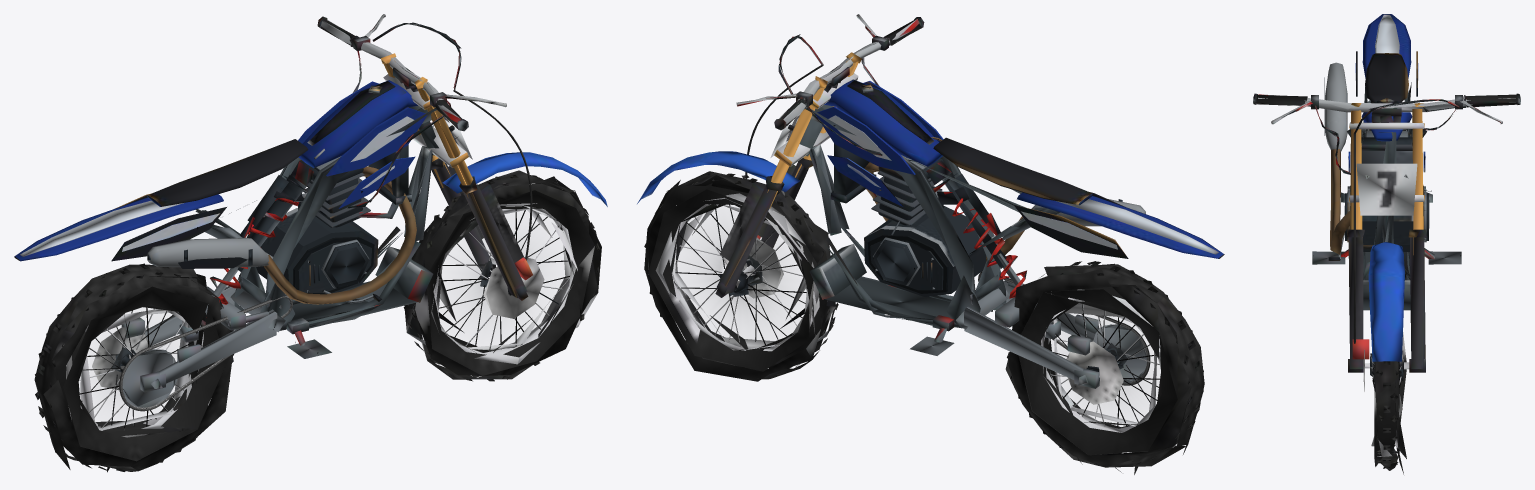
File: bike-rookie-lod.glb
3 renders of one model, left to right at view 1: azimuth 30°, elevation 25°; view 2: azimuth 150°, elevation 25°; view 3: azimuth 270°, elevation 25°, orthographic. The views are drawn at different scales.
Visible parts, largest first — view 1: wheel_rear, wheel_front, bodywork, frame, engine, fork_lower, exhaust, swingarm, handlebar, fork_upper, shock_body, sprocket_rear (+6 smaller); view 2: wheel_rear, wheel_front, bodywork, frame, engine, fork_lower, swingarm, handlebar, wheel_front_blur, fork_upper, wheel_front_spokes, shock_body (+6 smaller); view 3: fork_lower, fork_upper, bodywork, handlebar, wheel_front, frame, exhaust, engine, pegs, brake_hose.
Boxes of the visible parts, x1,y1,x2,y2 form: wheel_rear: [34, 263, 233, 472]; wheel_front: [403, 170, 601, 381]; bodywork: [14, 80, 427, 261]; frame: [195, 105, 438, 334]; engine: [256, 148, 381, 303]; fork_lower: [431, 152, 607, 300]; exhaust: [147, 166, 416, 304]; swingarm: [121, 282, 285, 392]; handlebar: [317, 14, 506, 208]; fork_upper: [380, 53, 473, 198]; shock_body: [237, 161, 313, 271]; sprocket_rear: [122, 349, 177, 407]; wheel_rear: [1005, 261, 1204, 474]; wheel_front: [644, 171, 838, 381]; bodywork: [815, 79, 1224, 258]; frame: [799, 105, 1059, 331]; engine: [864, 137, 986, 296]; fork_lower: [637, 151, 813, 297]; swingarm: [956, 280, 1099, 388]; handlebar: [736, 14, 924, 235]; wheel_front_blur: [700, 231, 782, 320]; fork_upper: [767, 52, 861, 208]; wheel_front_spokes: [674, 204, 806, 348]; shock_body: [926, 160, 1008, 268]; fork_lower: [1347, 229, 1426, 372]; fork_upper: [1349, 103, 1424, 254]; bodywork: [1348, 14, 1425, 172]; handlebar: [1253, 93, 1520, 191]; wheel_front: [1363, 272, 1406, 474]; frame: [1347, 82, 1426, 310]; exhaust: [1324, 62, 1350, 254]; engine: [1328, 130, 1429, 260]; pegs: [1312, 248, 1461, 264]; brake_hose: [1353, 133, 1355, 343].
Bounding box in the file's own units: 2.08 × 1.21 × 0.8748.
Materials: 7 (7 with a texture image).
